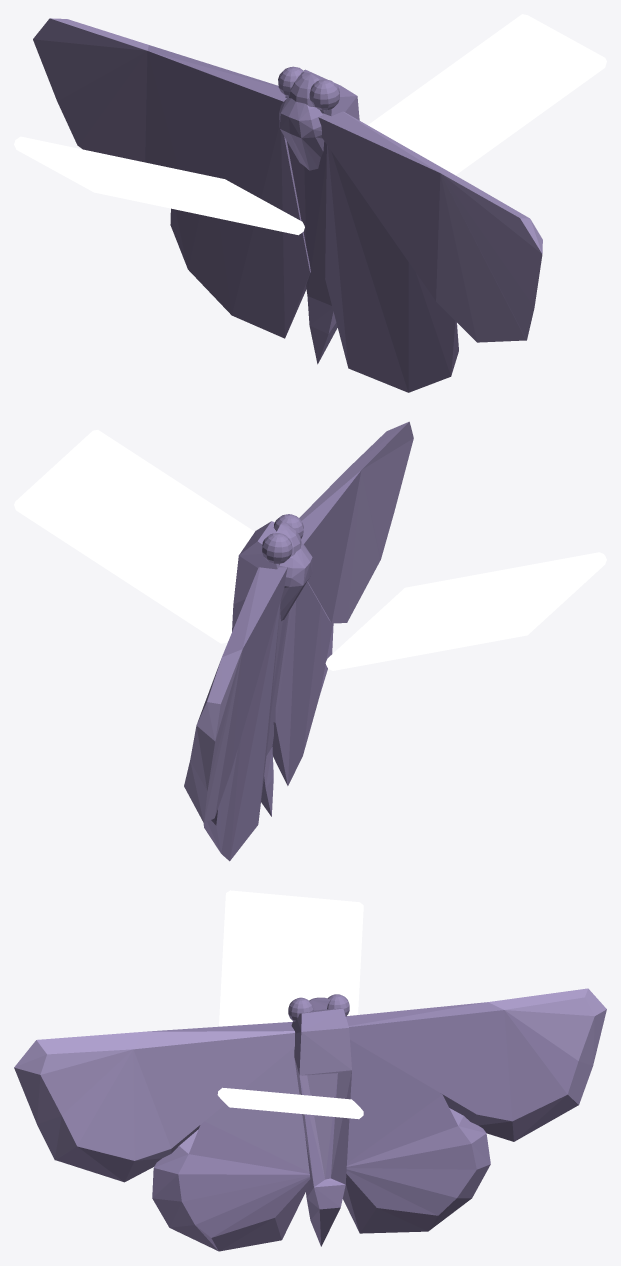
Rendered from SkyMoth.glb.
3 renders of one model, top to bottom at view 1: azimuth 30°, elevation 25°; view 2: azimuth 150°, elevation 25°; view 3: azimuth 270°, elevation 25°, orthographic. The views are drawn at different scales.
Visible parts, largest first — view 1: Body, Glow; view 2: Body, Glow; view 3: Body, Glow.
Part boxes in pixels (x1=…): Body: x1=33, y1=18, x2=542, y2=392; Glow: x1=14, y1=14, x2=606, y2=235; Body: x1=184, y1=421, x2=413, y2=861; Glow: x1=14, y1=430, x2=606, y2=670; Body: x1=14, y1=988, x2=606, y2=1251; Glow: x1=217, y1=890, x2=363, y2=1119.
Bounding box in the file's own units: 2.52 × 1.37 × 3.
